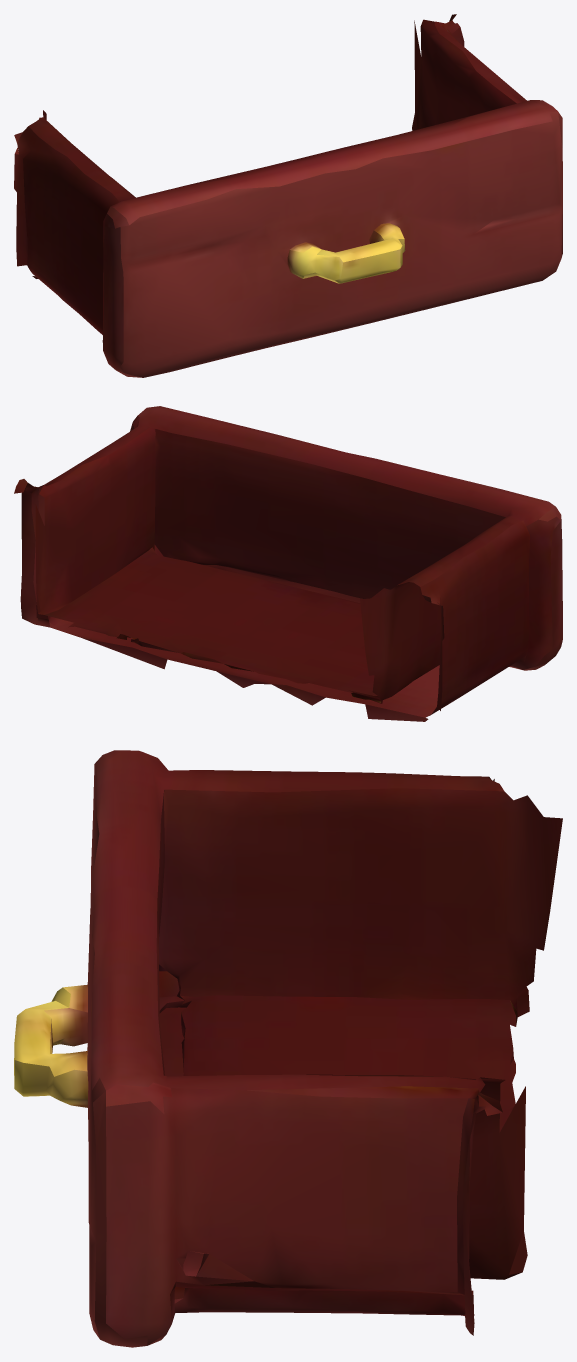
Rendered from drawer_left.glb.
The picture shows the model from 3 angles, top to bottom: view 1: azimuth 30°, elevation 25°; view 2: azimuth 150°, elevation 25°; view 3: azimuth 270°, elevation 25°; orthographic projection. The views are drawn at different scales.
Visible parts, largest first — view 1: geometry_0; view 2: geometry_0; view 3: geometry_0.
Part boxes in pixels (x1,y1,x2,y2): geometry_0: [14, 14, 562, 377]; geometry_0: [14, 406, 562, 721]; geometry_0: [14, 750, 562, 1347].
Bounding box in the file's own units: 0.7388 × 0.2671 × 0.4759.
Materials: 1 (1 with a texture image).
